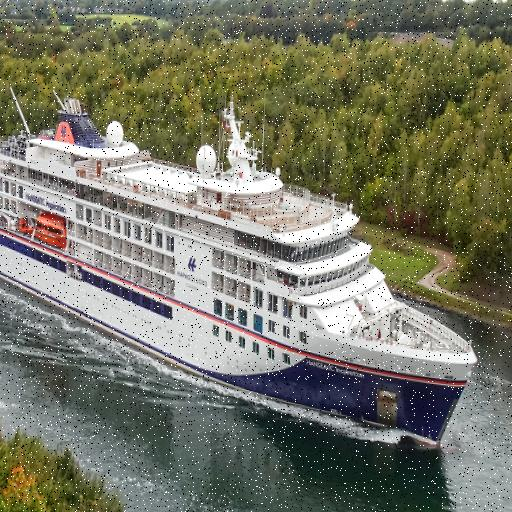cruises: (1, 84, 481, 461)
